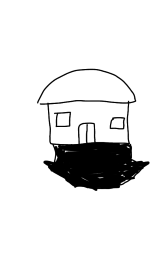door: (75, 120, 99, 149)
open_window: (52, 112, 73, 129), (108, 115, 127, 133)
roof: (36, 65, 137, 107)
shadow: (40, 141, 151, 193)
wall: (44, 96, 133, 148)
